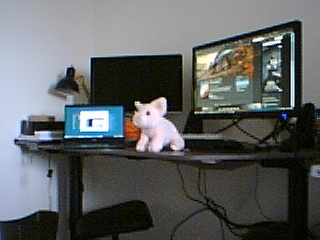piggy: (129, 95, 187, 154)
